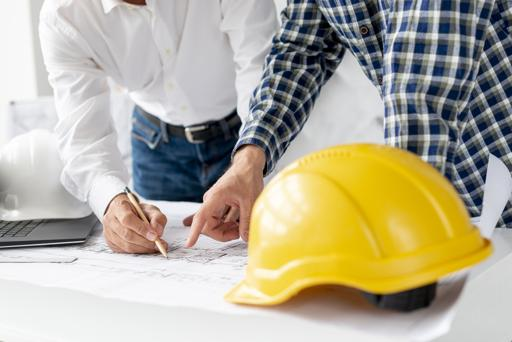hard hat: (224, 141, 495, 308)
